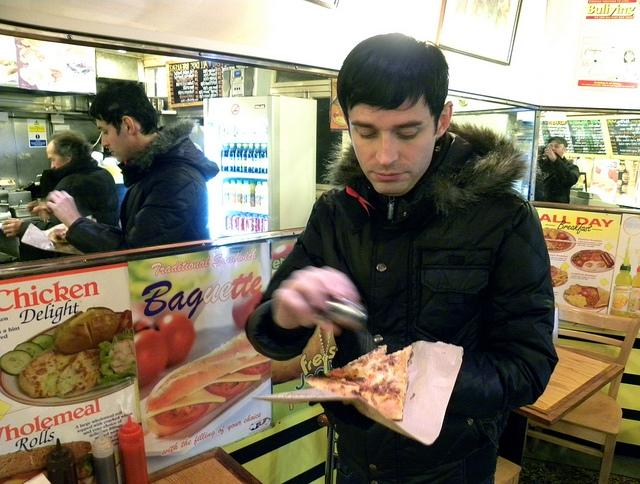potato: (53, 306, 120, 356)
tomato: (154, 312, 195, 370), (134, 329, 170, 388), (232, 290, 264, 330), (156, 403, 210, 426), (204, 380, 250, 398), (236, 360, 270, 375), (613, 170, 619, 182), (596, 166, 602, 174)
